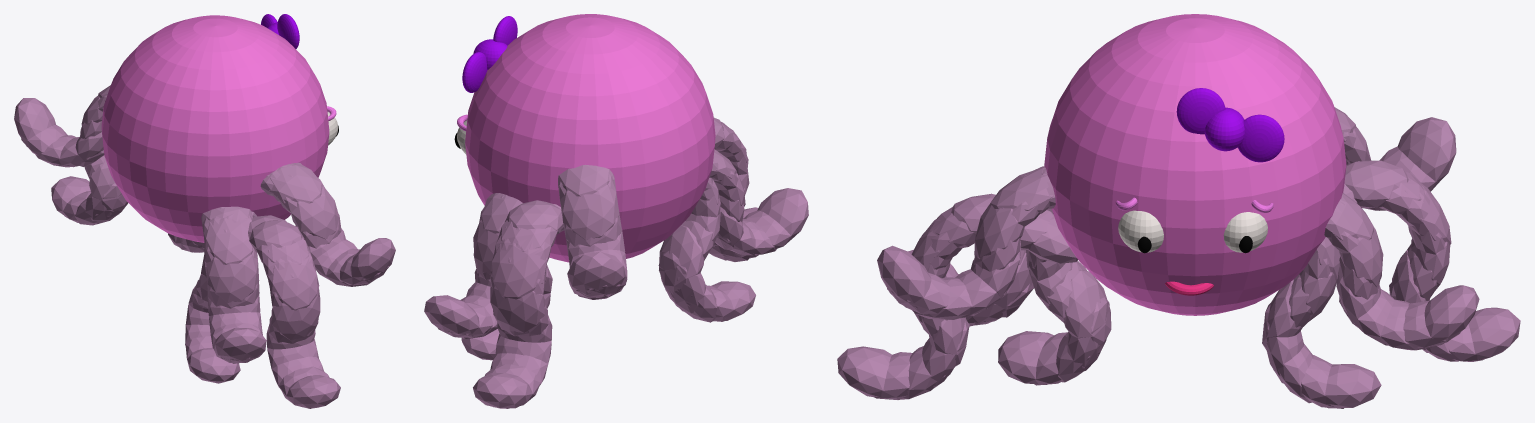
File: polvinha.glb
3 views of the same model, side by side, from view 1: azimuth 30°, elevation 25°; view 2: azimuth 150°, elevation 25°; view 3: azimuth 270°, elevation 25° (orthographic). The views are drawn at different scales.
Parts seen in each view (by area): view 1: corpo, tentaculo.dir.001, tentaculo.dir, laco.esq; view 2: corpo, tentaculo.dir, tentaculo.dir.001, laco.dir, laco.esq, laco.central; view 3: corpo, tentaculo.dir, tentaculo.dir.001, olhos, laco.dir, laco.esq, laco.central.
Boxes of the visible parts, box(x1,y1,x2,y2) form: corpo: box(101, 15, 329, 242); tentaculo.dir.001: box(185, 162, 395, 408); tentaculo.dir: box(14, 85, 204, 252); laco.esq: box(277, 14, 299, 48); corpo: box(465, 14, 715, 262); tentaculo.dir: box(424, 164, 627, 408); tentaculo.dir.001: box(658, 117, 808, 322); laco.dir: box(462, 52, 487, 92); laco.esq: box(493, 16, 517, 45); laco.central: box(473, 39, 507, 69); corpo: box(1044, 14, 1346, 315); tentaculo.dir: box(1262, 107, 1520, 408); tentaculo.dir.001: box(837, 166, 1111, 399); olhos: box(1118, 210, 1267, 252); laco.dir: box(1237, 114, 1284, 162); laco.esq: box(1176, 88, 1225, 134); laco.central: box(1204, 107, 1244, 151).
Bounding box in the file's own units: 2.2 × 2.85 × 4.52.
